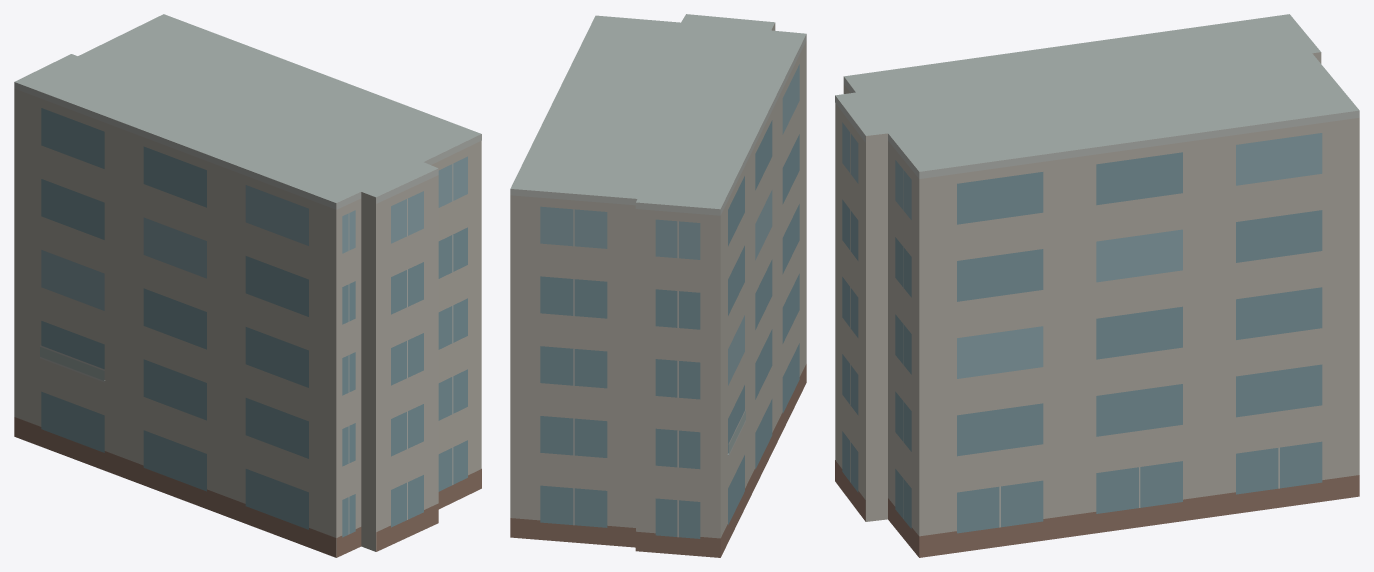
Rendered from survey-upis-32525725.glb.
3 renders of one model, left to right at view 1: azimuth 30°, elevation 25°; view 2: azimuth 150°, elevation 25°; view 3: azimuth 270°, elevation 25°, orthographic. The views are drawn at different scales.
Parts seen in each view (by area): view 1: survey-upis-32525725.tmp; view 2: survey-upis-32525725.tmp; view 3: survey-upis-32525725.tmp.
Part boxes in pixels (x1,y1,x2,y2): survey-upis-32525725.tmp: [14, 14, 481, 557]; survey-upis-32525725.tmp: [510, 14, 806, 557]; survey-upis-32525725.tmp: [835, 14, 1359, 557].
Bounding box in the file's own units: 11.46 × 13.05 × 16.08.
